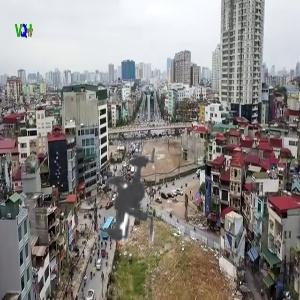drone: (36, 113, 211, 288)
